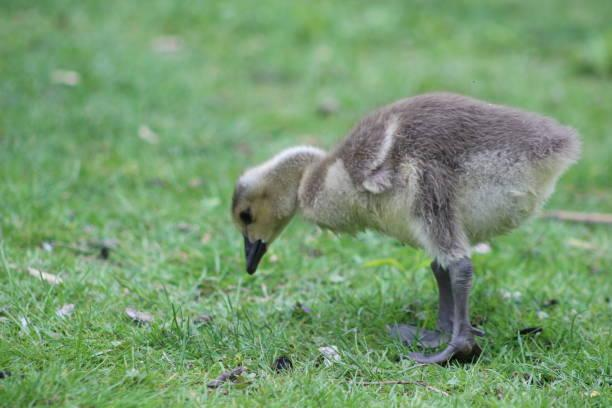Canadian-Goose: (232, 92, 582, 358)
